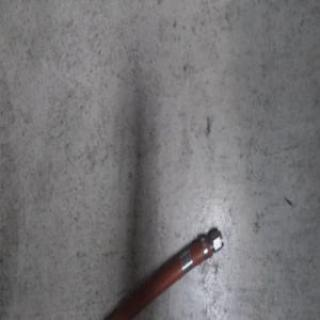Hosetrack_idkeyframe: (73, 224, 224, 319)
